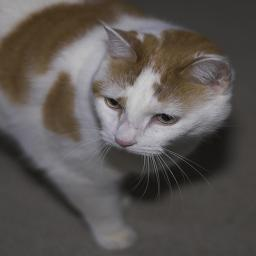catnose: (113, 134, 137, 149)
